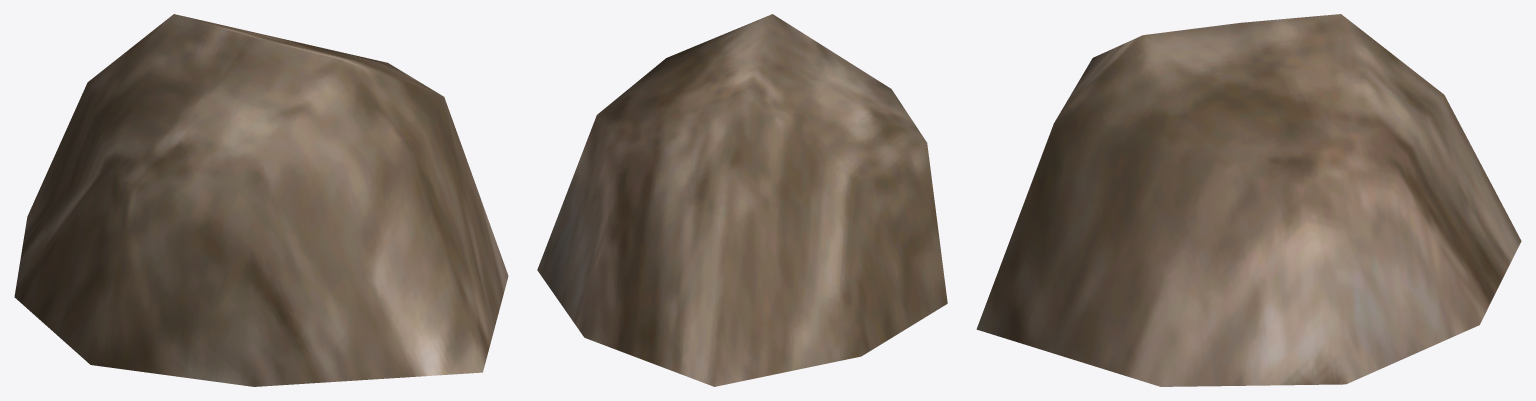
The model's file is OVERHILL_A_01_ROCK98.fbx.
3 renders of one model, left to right at view 1: azimuth 30°, elevation 25°; view 2: azimuth 150°, elevation 25°; view 3: azimuth 270°, elevation 25°, orthographic. The views are drawn at different scales.
Visible parts, largest first — view 1: OVERHILL_A_01_ROCK98; view 2: OVERHILL_A_01_ROCK98; view 3: OVERHILL_A_01_ROCK98.
Part boxes in pixels (x1,y1,x2,y2): OVERHILL_A_01_ROCK98: (14,14,508,386); OVERHILL_A_01_ROCK98: (537,14,947,386); OVERHILL_A_01_ROCK98: (976,14,1521,386).
Bounding box in the file's own units: 3676 × 2312 × 4305.
Materials: 1 (1 with a texture image).
